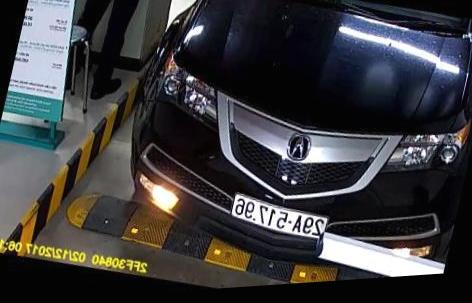License_Plate: (235, 184, 340, 242)
